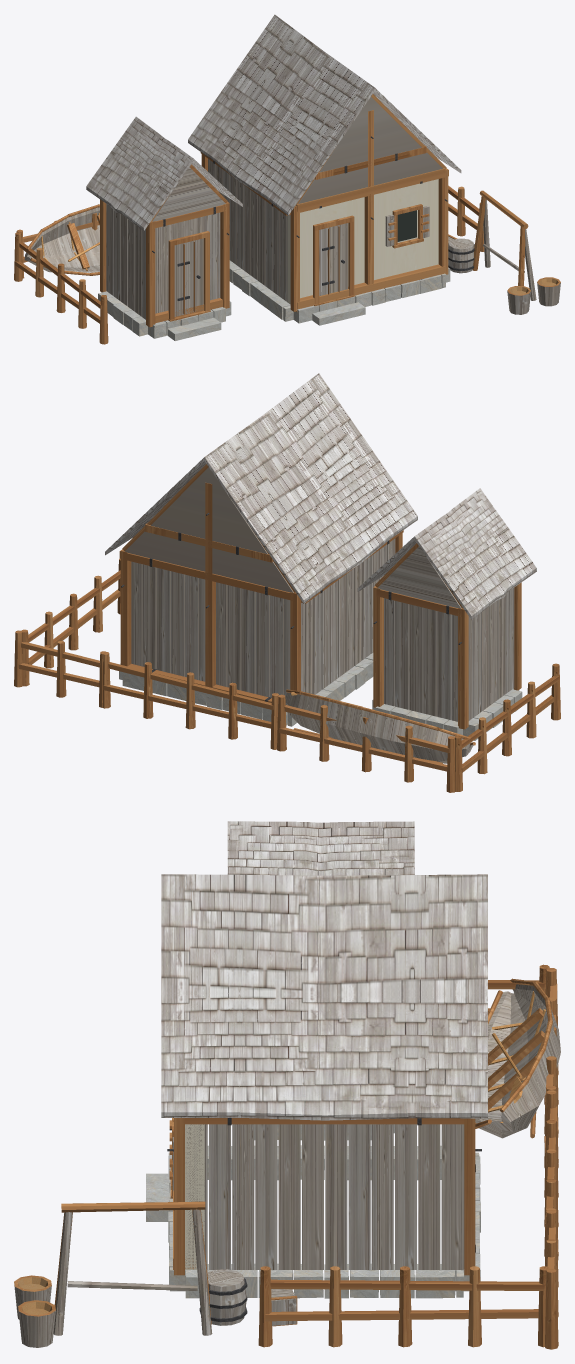
File: fishing_camp_textured_v6.glb
The picture shows the model from 3 angles, top to bottom: view 1: azimuth 30°, elevation 25°; view 2: azimuth 150°, elevation 25°; view 3: azimuth 270°, elevation 25°; orthographic projection. The views are drawn at different scales.
Parts seen in each view (by area): view 1: FC_Main_Roof_Left, FC_Shed_Roof_Left, FC_Main_Front_Gable, FC_Main_Front_Window_Host, FC_Main_Left_Plank_Wall, FC_Main_Front_Door_Host, FC_Shed_Left_Wall, FC_Leaning_River_Dugout, FC_Shed_Service_Door, FC_Main_Service_Door, FC_Shed_Front_Door_Host, FC_Fence_West (+23 smaller); view 2: FC_Main_Roof_Left, FC_Main_Rear_Plank_Wall, FC_Shed_Roof_Left, FC_Main_Rear_Gable, FC_Shed_Rear_Wall, FC_Main_Left_Plank_Wall, FC_Leaning_River_Dugout, FC_Shed_Left_Wall, FC_Fence_Rear_Centre, FC_Fence_Rear_West, FC_Fence_West, FC_Fence_East (+19 smaller); view 3: FC_Main_Roof_Right, FC_Main_Right_Plank_Wall, FC_Shed_Roof_Right, FC_Fence_East, FC_Leaning_River_Dugout, FC_Fish_Drying_Rack, FC_Main_Foundation_Right, FC_Wash_Buckets, FC_Main_Front_Window_Host, FC_Brine_Barrel, FC_Main_Rear_Post_3, FC_Fence_Rear_Centre (+8 smaller).
Part boxes in pixels (x1,y1,x2,y2): FC_Main_Roof_Left: (188,14,374,215); FC_Shed_Roof_Left: (86,116,193,230); FC_Main_Front_Gable: (295,94,446,205); FC_Main_Front_Window_Host: (371,168,445,291); FC_Main_Left_Plank_Wall: (208,159,287,302); FC_Main_Front_Door_Host: (287,186,371,309); FC_Shed_Left_Wall: (106,204,145,319); FC_Leaning_River_Dugout: (24,204,99,275); FC_Shed_Service_Door: (168,231,210,321); FC_Main_Service_Door: (313,215,355,306); FC_Shed_Front_Door_Host: (155,212,222,323); FC_Fence_West: (14,232,108,344); FC_Main_Roof_Left: (204,373,417,603); FC_Main_Rear_Plank_Wall: (131,561,290,697); FC_Shed_Roof_Left: (414,488,536,619); FC_Main_Rear_Gable: (122,464,295,592); FC_Shed_Rear_Wall: (384,598,457,721); FC_Main_Left_Plank_Wall: (301,538,395,694); FC_Leaning_River_Dugout: (285,689,475,763); FC_Shed_Left_Wall: (468,588,513,720); FC_Fence_Rear_Centre: (102,651,278,749); FC_Fence_Rear_West: (277,694,455,792); FC_Fence_West: (455,663,560,791); FC_Fence_East: (21,558,120,686); FC_Main_Roof_Right: (161,874,487,1120); FC_Main_Right_Plank_Wall: (185,1124,463,1269); FC_Shed_Roof_Right: (227,821,414,875); FC_Fence_East: (258,1266,549,1347); FC_Leaning_River_Dugout: (475,978,560,1138); FC_Fish_Drying_Rack: (53,1201,212,1335); FC_Main_Foundation_Right: (185,1263,463,1298); FC_Wash_Buckets: (14,1275,55,1347); FC_Main_Front_Window_Host: (173,1124,204,1269); FC_Brine_Barrel: (199,1269,247,1325); FC_Main_Rear_Post_3: (464,1118,481,1275); FC_Fence_Rear_Centre: (544,1090,558,1282).
Bounding box in the file's own units: 10.51 × 5.69 × 7.84.
15 materials, 14 textured.
